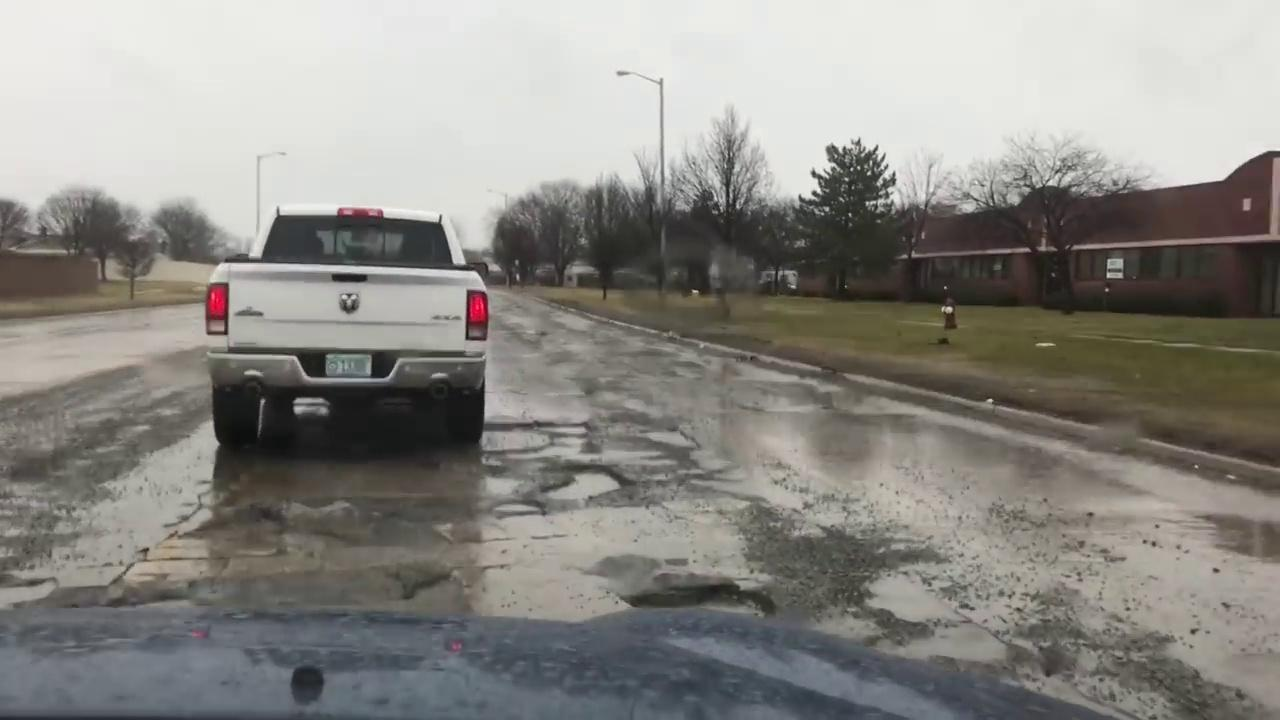pothole: (602, 565, 775, 615), (546, 473, 620, 504), (642, 420, 704, 448), (539, 417, 594, 437), (492, 503, 542, 517)
